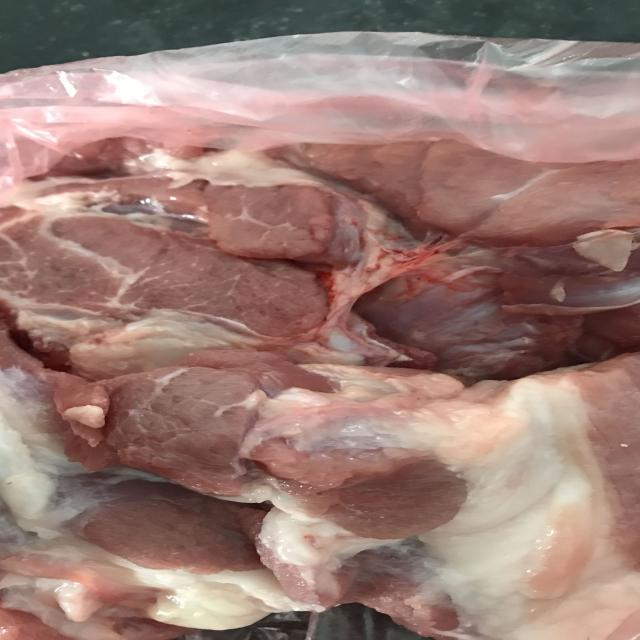chicken: (0, 125, 640, 640)
